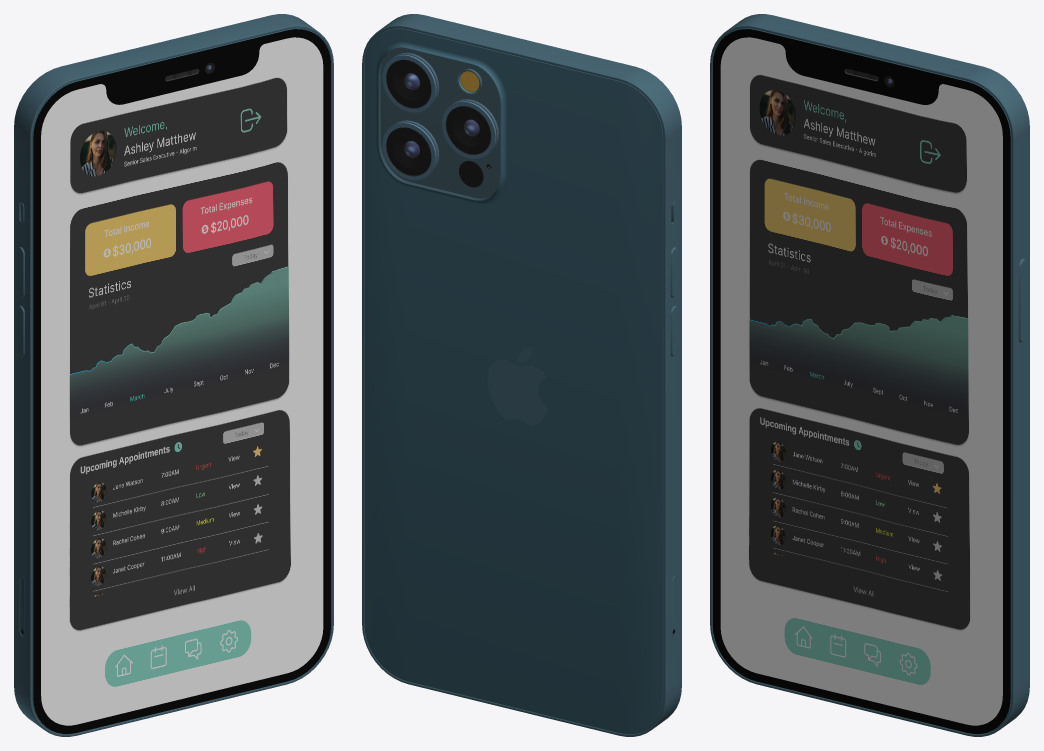
File: mob.glb
3 renders of one model, left to right at view 1: azimuth 30°, elevation 25°; view 2: azimuth 150°, elevation 25°; view 3: azimuth 330°, elevation 25°, orthographic.
Visible parts, largest first — view 1: Screen, iPhone 12 Pro, Bezel, iPhone12 Pro, VolumeButton; view 2: iPhone12 Pro, iPhone 12 Pro, CameraModule.001, Apple Logo, Camera2, Camera1, Camera3, VolumeButton; view 3: Screen, iPhone 12 Pro, Bezel, iPhone12 Pro, PowerButton.
Part boxes in pixels (box(x1,y1,x2,y2)): Screen: box(41, 37, 323, 725); iPhone 12 Pro: box(14, 14, 333, 736); Bezel: box(33, 29, 330, 733); iPhone12 Pro: box(32, 28, 331, 734); VolumeButton: box(17, 247, 24, 356); iPhone12 Pro: box(364, 28, 663, 734); iPhone 12 Pro: box(362, 14, 681, 736); CameraModule.001: box(378, 48, 500, 199); Apple Logo: box(487, 347, 547, 425); Camera2: box(382, 120, 439, 180); Camera1: box(382, 52, 439, 112); Camera3: box(442, 99, 498, 158); VolumeButton: box(670, 247, 677, 356); Screen: box(720, 37, 1002, 725); iPhone 12 Pro: box(710, 14, 1029, 736); Bezel: box(713, 29, 1010, 733); iPhone12 Pro: box(712, 28, 1011, 734); PowerButton: box(1018, 258, 1026, 342).
Size of the model in its own units: 48.13 by 98.5 by 5.56.
18 materials, 4 textured.
